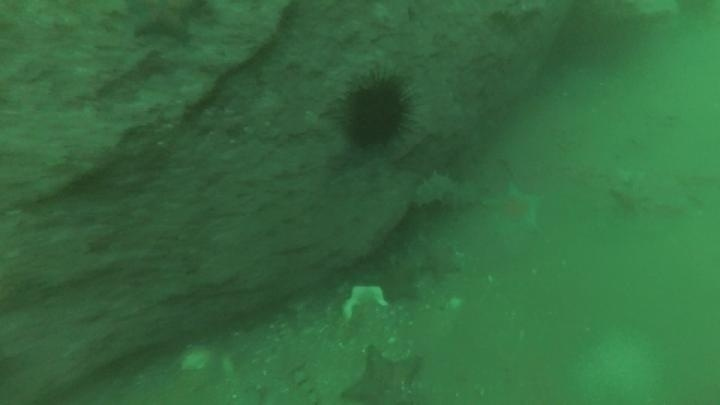echinus: (334, 68, 418, 153)
holothurian: (411, 168, 469, 214)
starfish: (338, 345, 429, 404), (481, 178, 547, 241), (122, 1, 215, 45), (369, 250, 426, 305), (606, 175, 652, 221)
